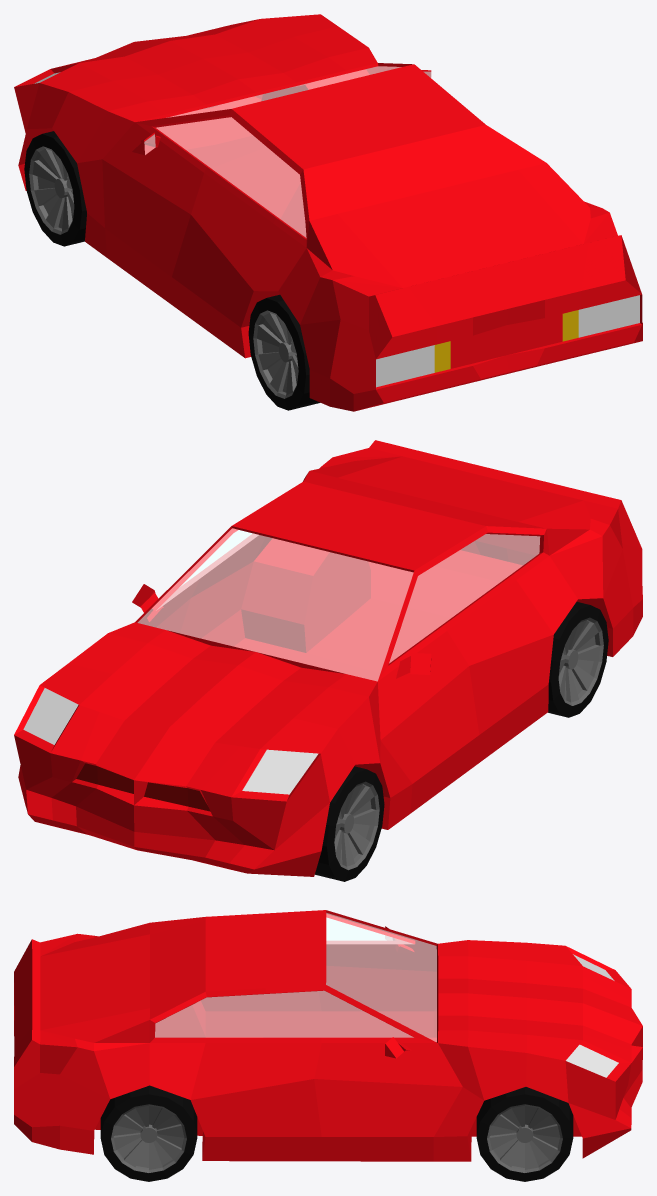
File: sports car.fbx
3 views of the same model, one above another, from view 1: azimuth 30°, elevation 25°; view 2: azimuth 150°, elevation 25°; view 3: azimuth 270°, elevation 25° (orthographic). The views are drawn at different scales.
Parts seen in each view (by area): view 1: Cube; view 2: Cube; view 3: Cube.
Boxes of the visible parts, x1,y1,x2,y2 form: Cube: (14, 14, 642, 411); Cube: (14, 440, 642, 881); Cube: (14, 910, 642, 1181).
Size of the model in its own units: 208 by 133 by 439.
